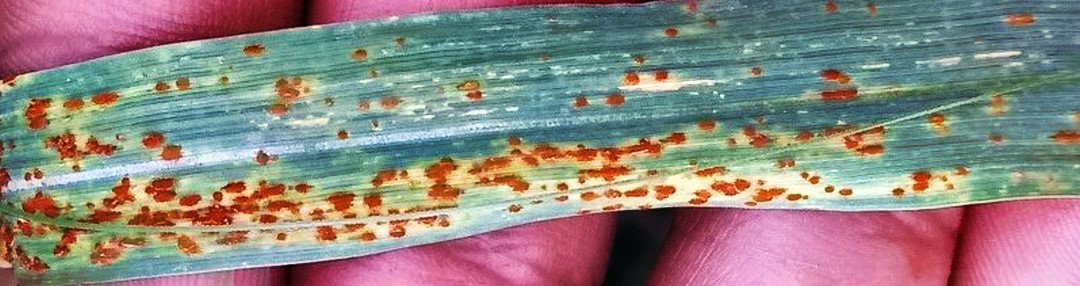Leaf Rust: (1, 27, 968, 267)
